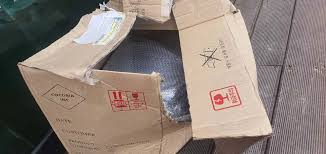damaged package: (70, 5, 201, 137), (82, 0, 126, 19), (225, 2, 244, 21)
